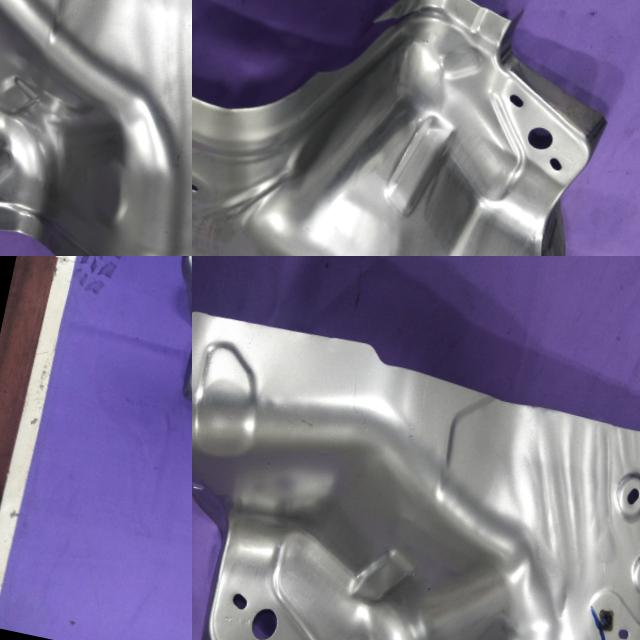Defect: (292, 0, 456, 115)
Healthy: (192, 302, 640, 640), (0, 0, 192, 256)
